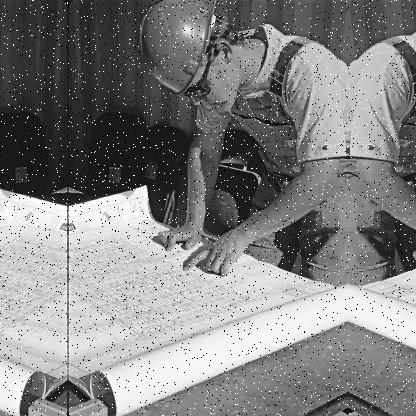Helmet: (136, 3, 252, 121)
